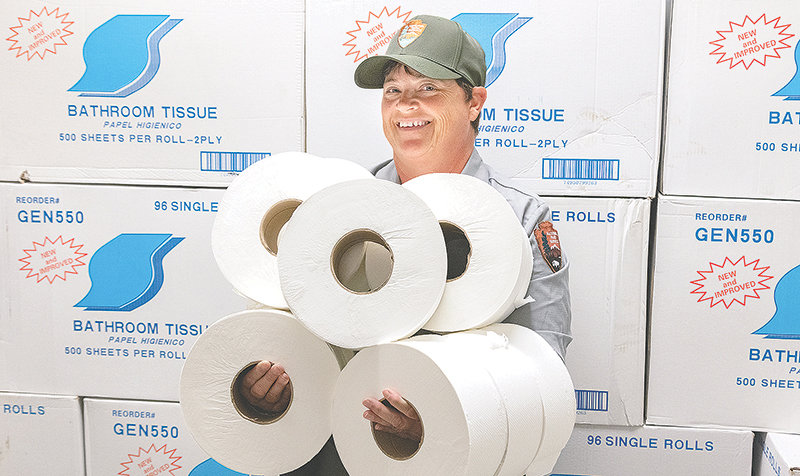Tissue: (275, 178, 452, 350)
